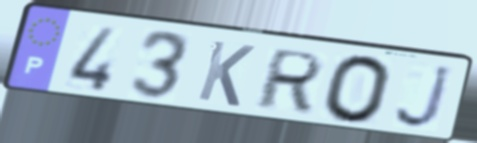3: (128, 27, 192, 103)
4: (65, 23, 116, 93)
J: (392, 63, 456, 132)
K: (193, 37, 258, 110)
O: (320, 53, 395, 126)
R: (250, 47, 328, 114)
